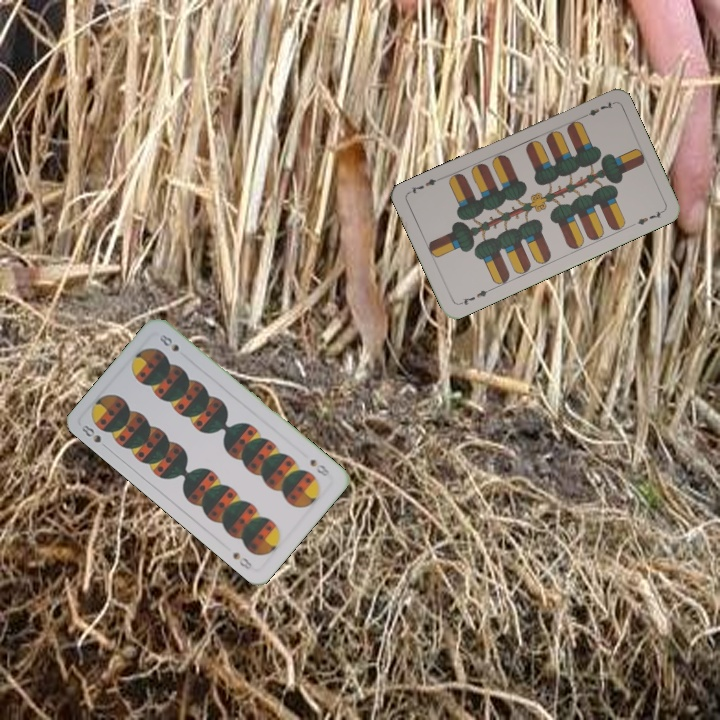E7: (455, 285, 494, 308), (577, 98, 616, 121)
S8: (78, 421, 112, 452), (306, 455, 332, 480)
